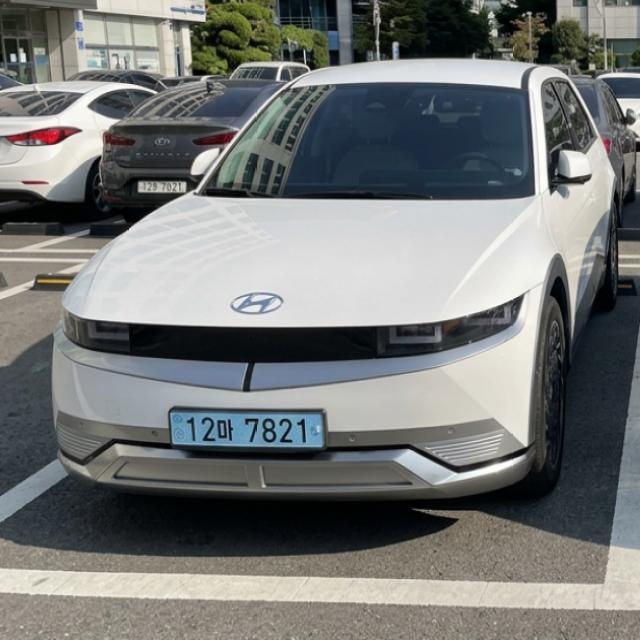car: (152, 402, 343, 465)
carev: (306, 412, 329, 453), (168, 409, 186, 453)
